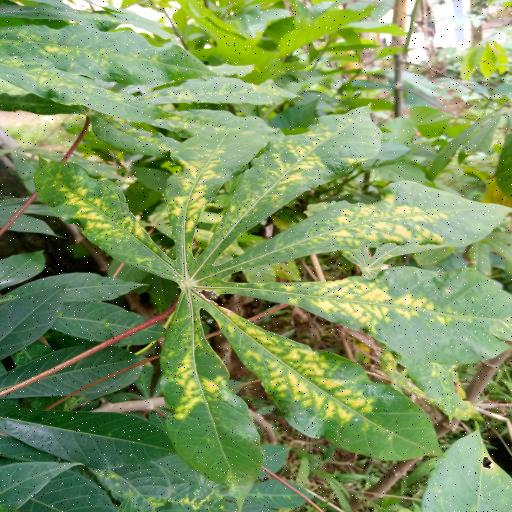Cassava_Mosaic: (6, 108, 508, 486)
